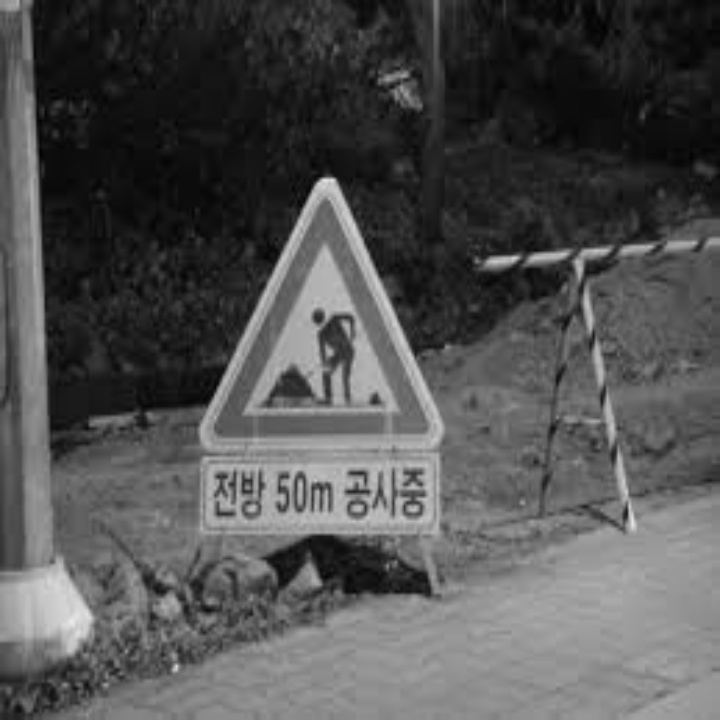const: (240, 276, 389, 418)
